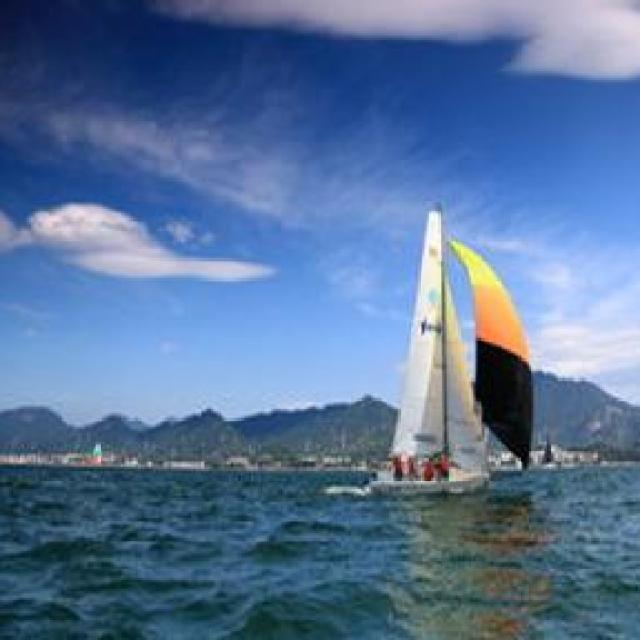sailboat: (369, 189, 536, 499)
